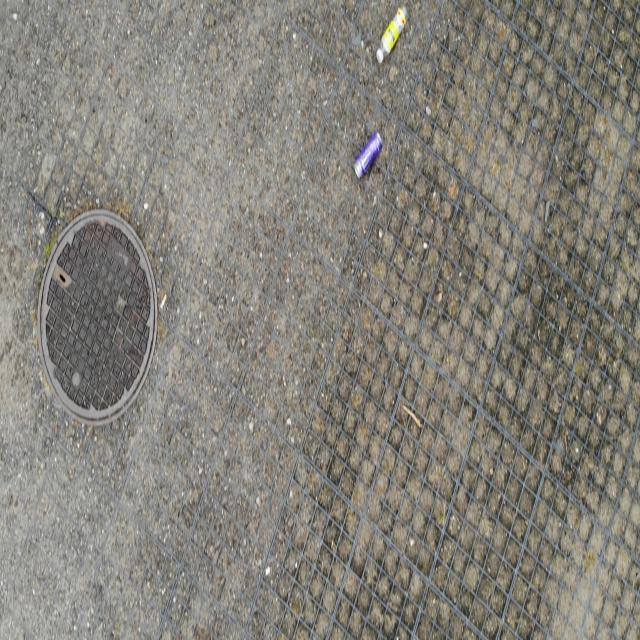rubbish: (376, 4, 408, 64), (352, 129, 383, 180)
